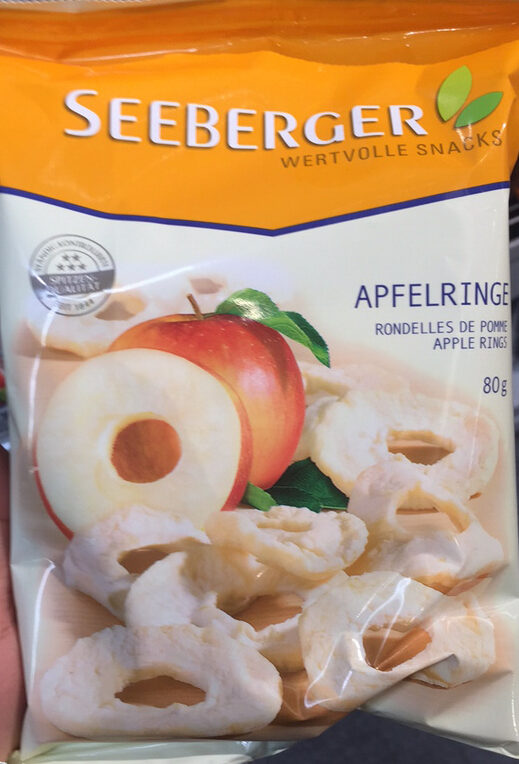Apfelringe: (26, 38, 493, 726)
